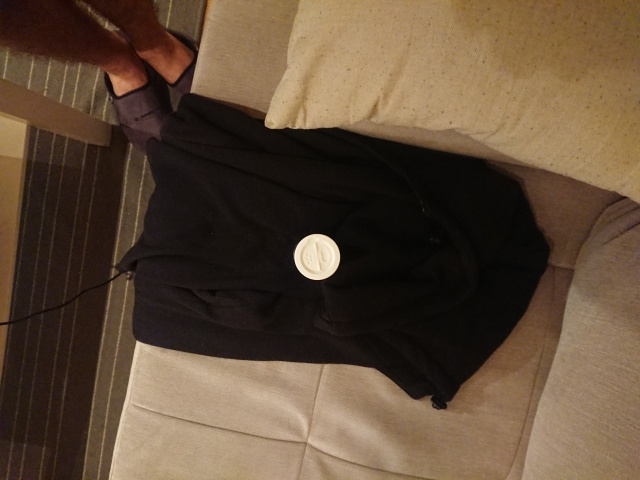Solana Pag Fine Sea Salt 250g: (292, 231, 341, 281)
